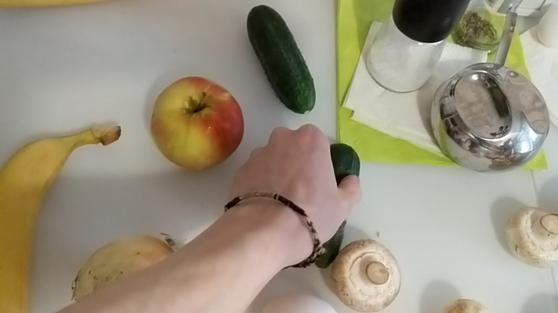banana: (1, 124, 120, 313)
champignon: (330, 239, 402, 313), (504, 205, 558, 262)
cucumber: (245, 6, 317, 114)
